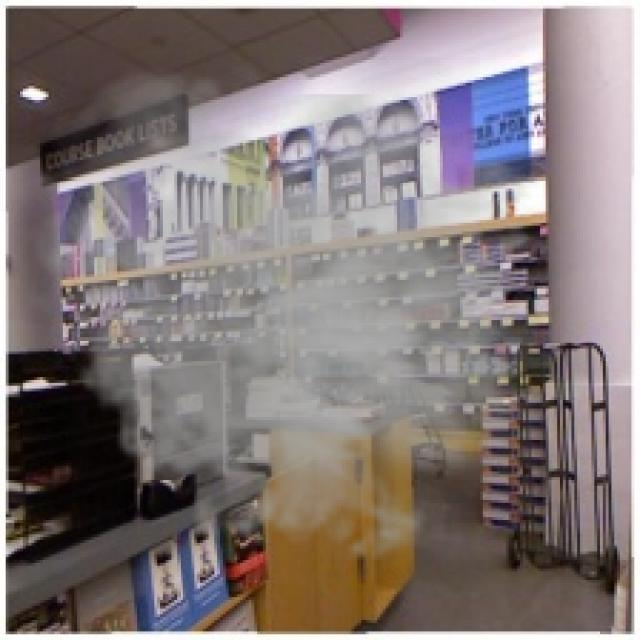smoke: (14, 57, 577, 577)
